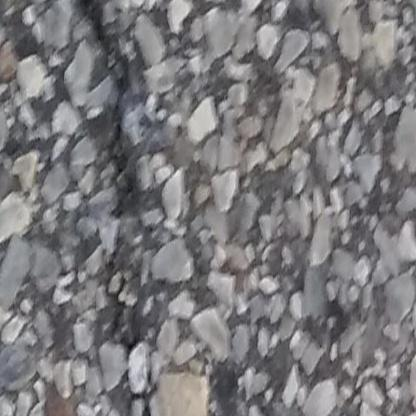Cracks: (66, 0, 179, 416)
